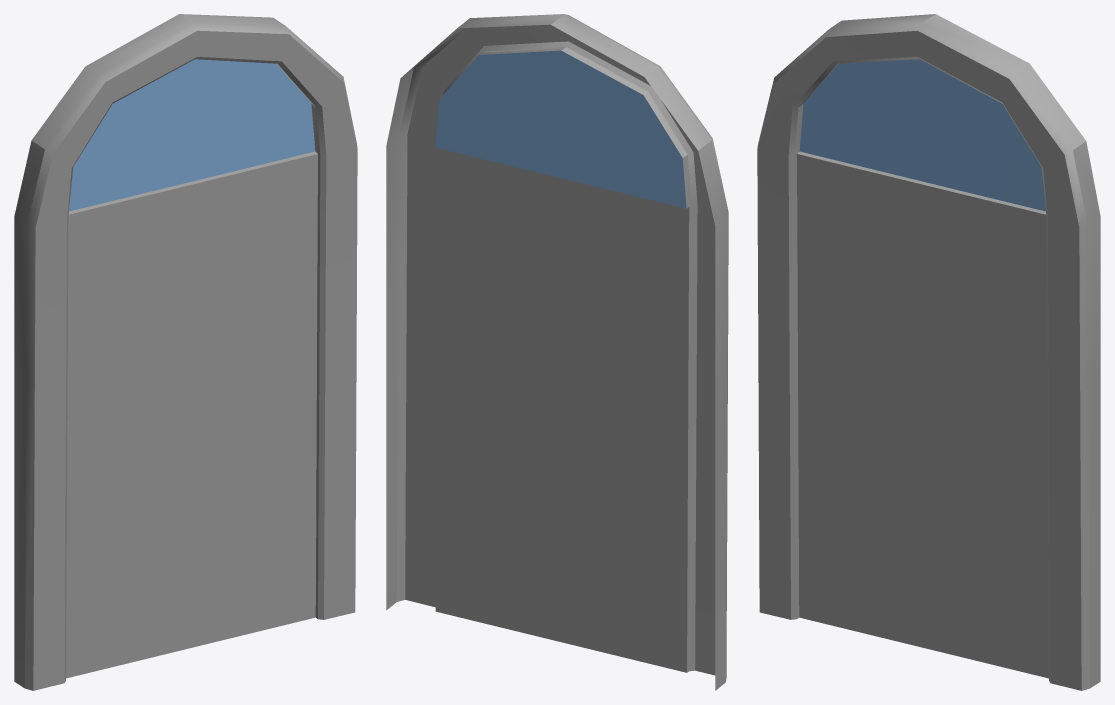
File: Puerta_01.fbx
3 views of the same model, side by side, from view 1: azimuth 30°, elevation 25°; view 2: azimuth 150°, elevation 25°; view 3: azimuth 330°, elevation 25° (orthographic).
Parts seen in each view (by area): view 1: polySurface125; view 2: polySurface125; view 3: polySurface125.
Part boxes in pixels (left/top/right/bottom): polySurface125: left=14, top=14, right=357, bottom=690; polySurface125: left=386, top=14, right=728, bottom=690; polySurface125: left=757, top=14, right=1100, bottom=690.
Size of the model in its own units: 231 by 420 by 21.9.
